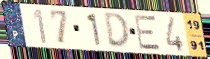1: (85, 13, 102, 48), (33, 9, 48, 46)
4: (165, 15, 185, 53)
7: (49, 9, 70, 46)
D: (103, 11, 132, 50)
E: (133, 15, 163, 52)
